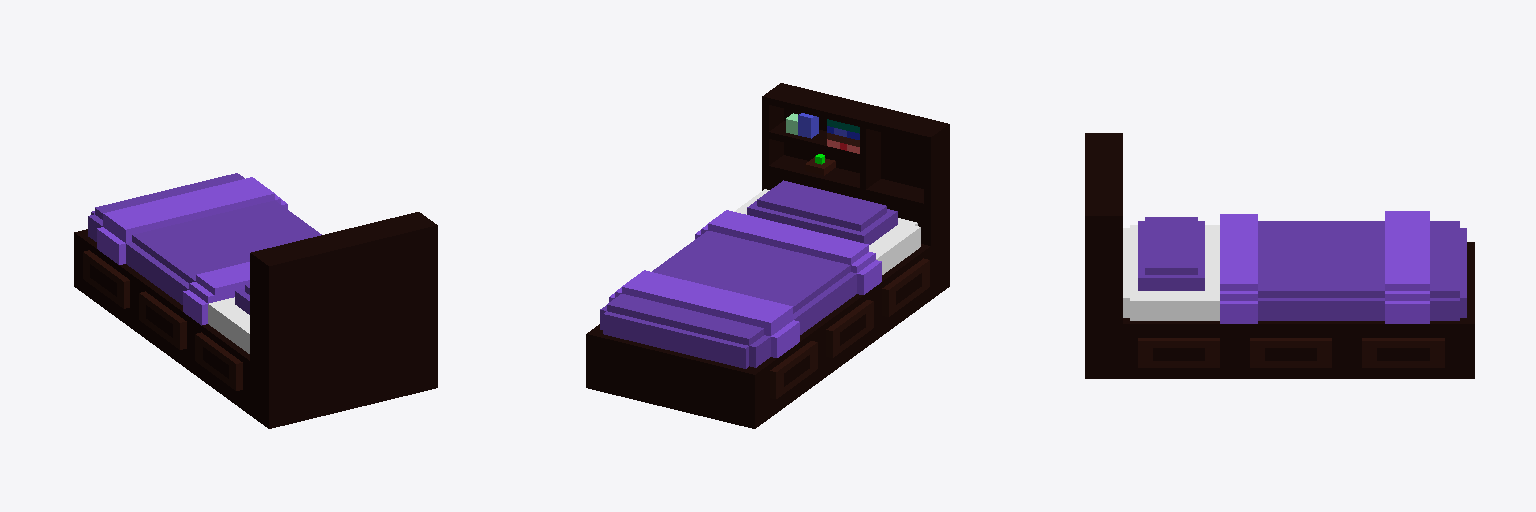
The picture shows the model from 3 angles: view 1: azimuth 30°, elevation 25°; view 2: azimuth 150°, elevation 25°; view 3: azimuth 270°, elevation 25°; orthographic projection.
Visible parts, largest first — view 1: object 1; view 2: object 1; view 3: object 1.
Part boxes in pixels (x1,y1,x2,y2): object 1: (74, 173, 437, 428); object 1: (586, 83, 949, 428); object 1: (1085, 133, 1474, 378).
Size of the model in its own units: 2.8 by 2.4 by 5.2.
1 materials, 1 textured.